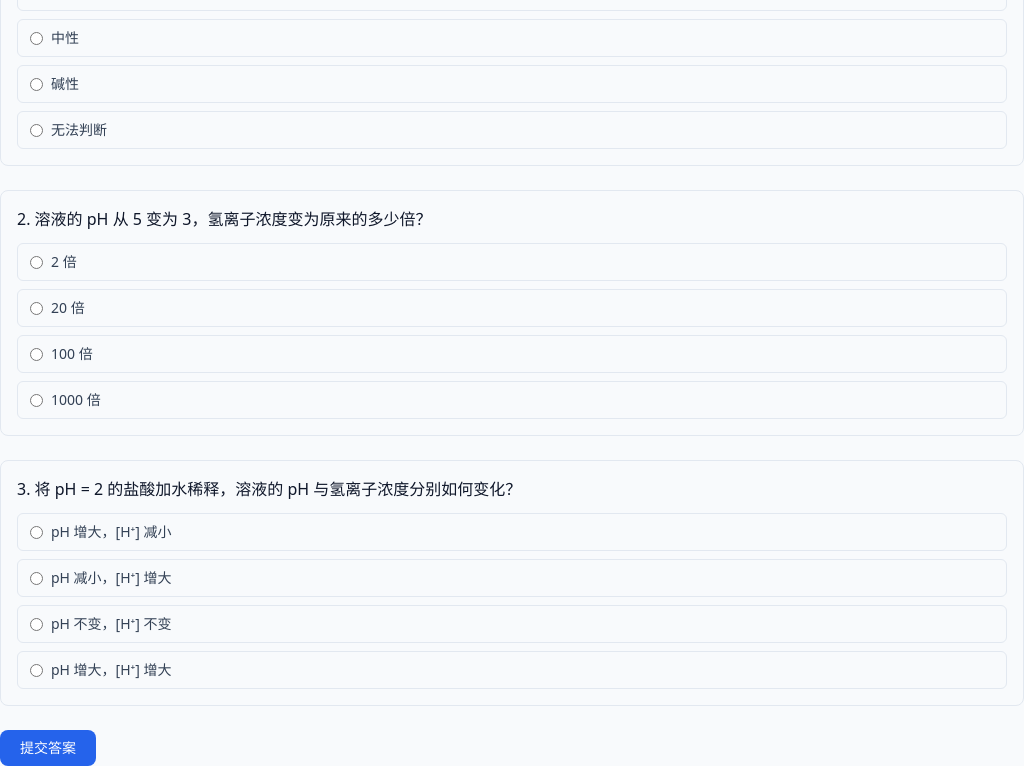
Test: QuizSection 组件 › 未答完时提交给出提示
(page scrolled)
Click the button "提交答案" at (48, 748), box top-left (0, 730), bottom-right (96, 765)
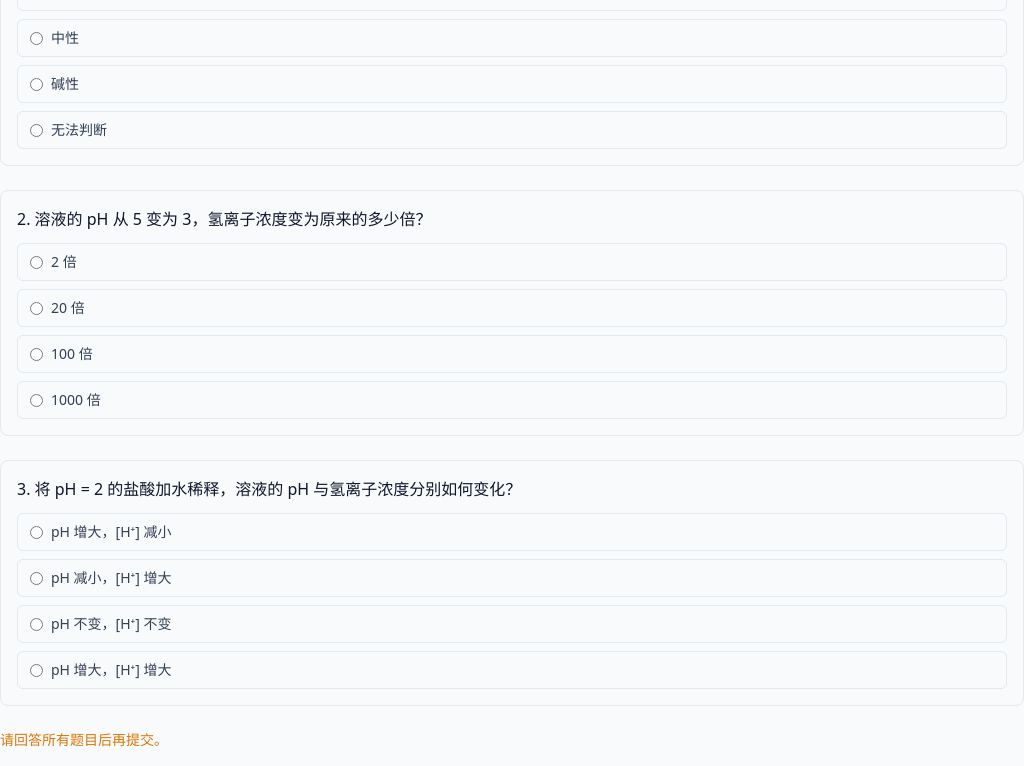
Check: the text "请回答所有题目后再提交。" is shown, box top-left (0, 730), bottom-right (168, 749)
